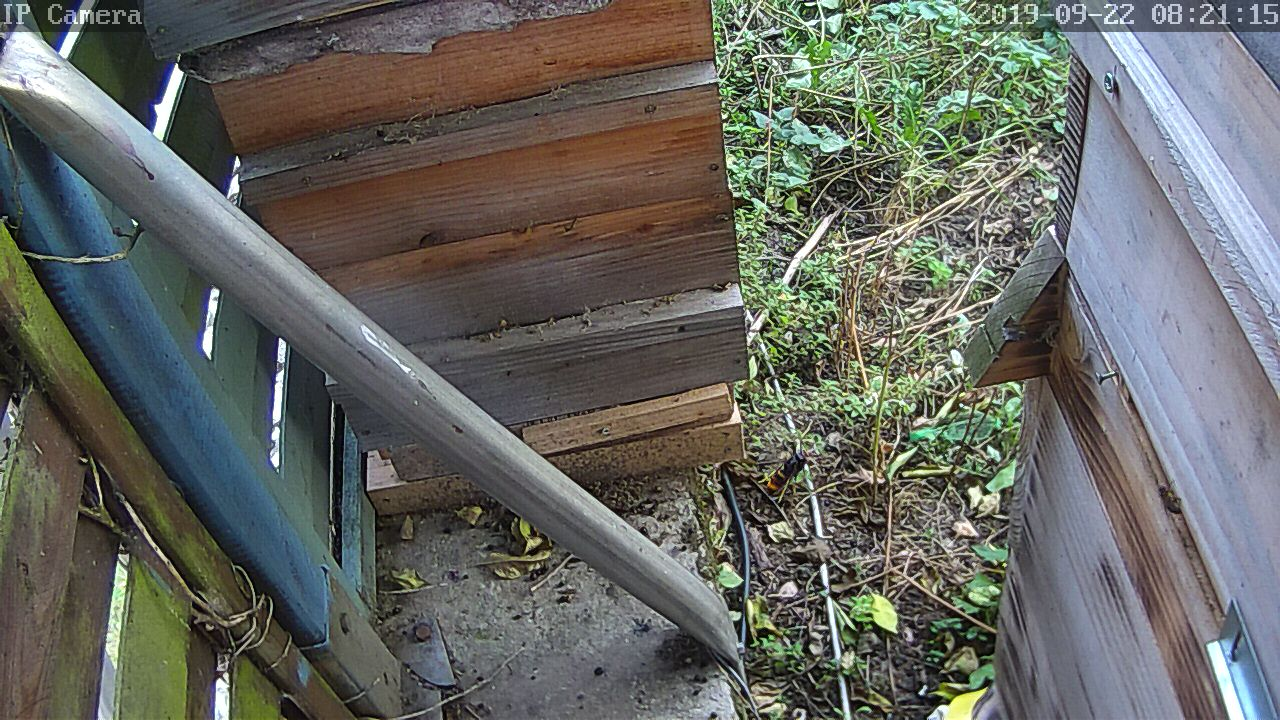bee: (1155, 484, 1186, 515)
hornet: (764, 445, 812, 497)
